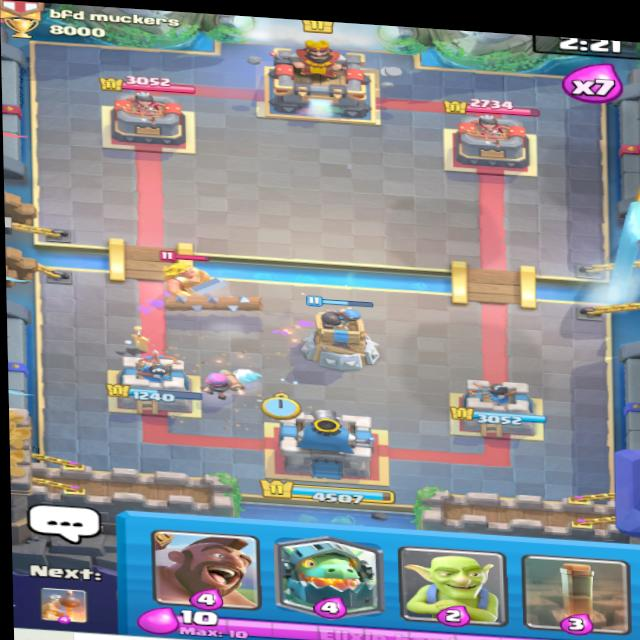golden-knight: (139, 249, 235, 303)
